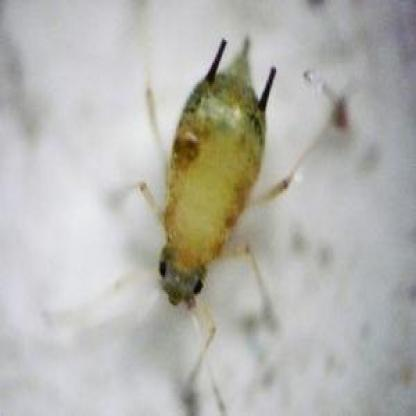aphid: (116, 22, 312, 400)
